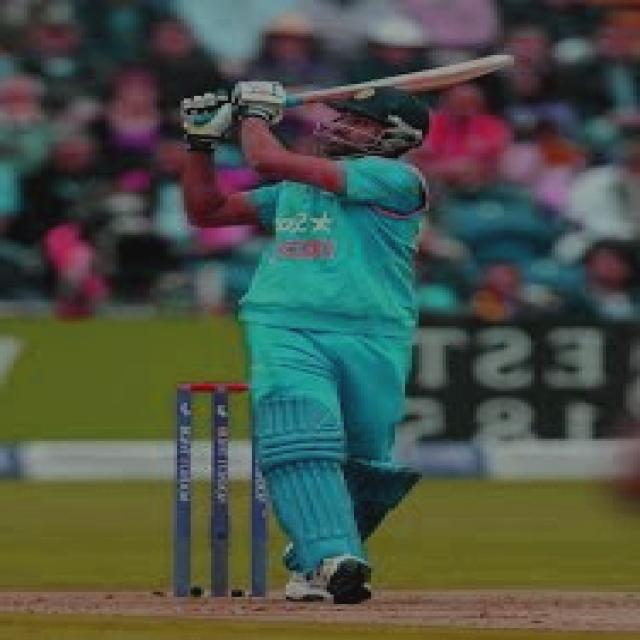toe: (485, 48, 520, 74)
